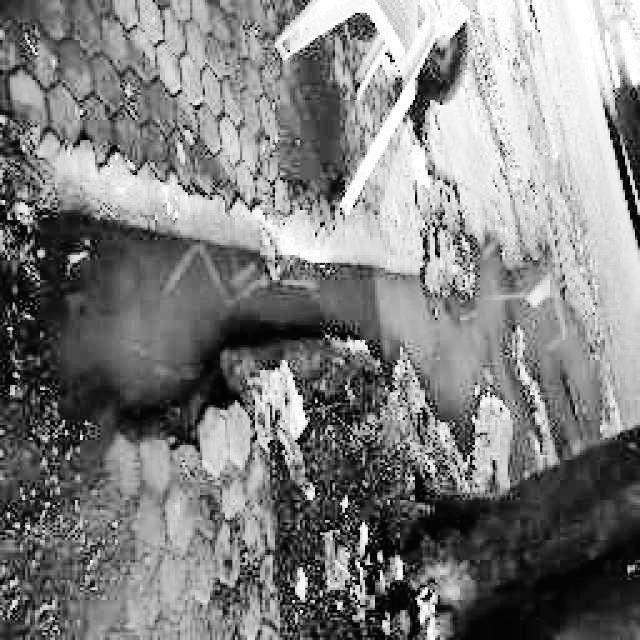Pothole: (3, 117, 621, 494)
